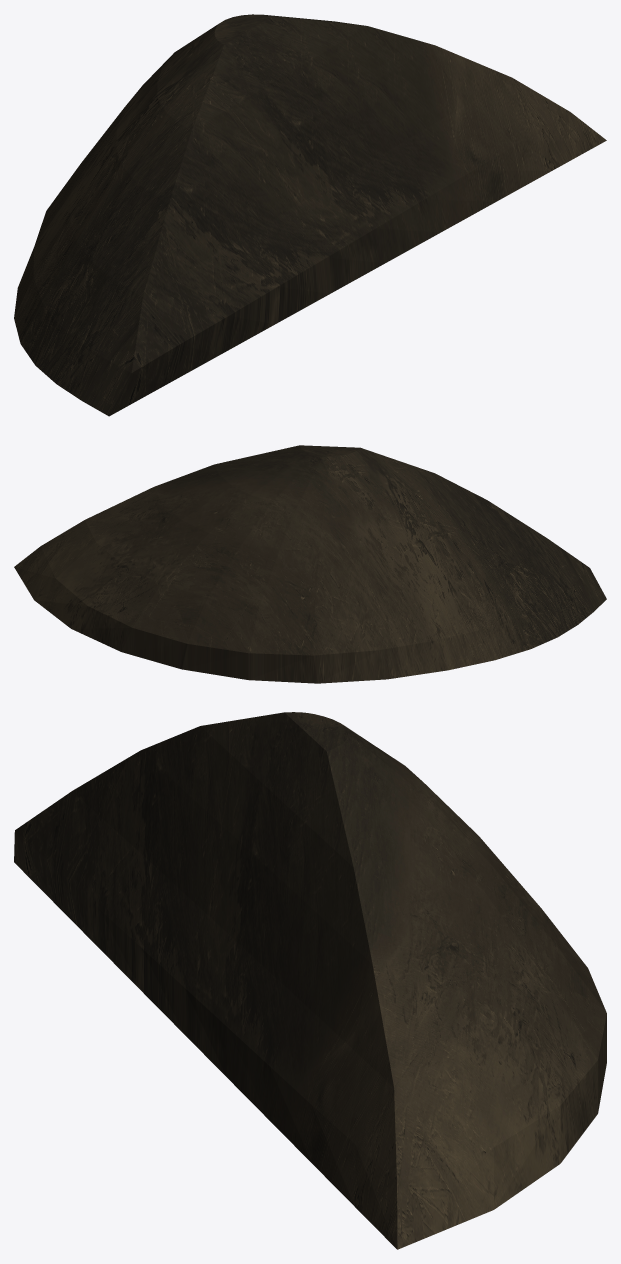
Rendered from marron2.FBX.
The picture shows the model from 3 angles, top to bottom: view 1: azimuth 30°, elevation 25°; view 2: azimuth 150°, elevation 25°; view 3: azimuth 270°, elevation 25°; orthographic projection. The views are drawn at different scales.
Visible parts, largest first — view 1: Ligne014; view 2: Ligne014; view 3: Ligne014.
Boxes of the visible parts, box(x1,y1,x2,y2) form: Ligne014: box(14, 14, 606, 416); Ligne014: box(14, 445, 606, 683); Ligne014: box(14, 712, 606, 1249).
Bounding box in the file's own units: 15.12 × 5.11 × 9.68.
Materials: 1 (1 with a texture image).
